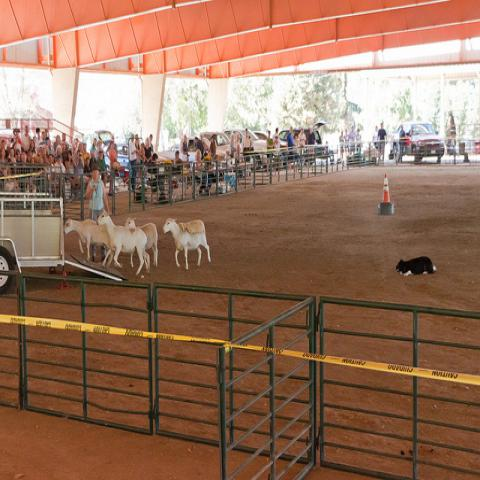car: (389, 119, 445, 164), (94, 130, 128, 176), (278, 120, 328, 146), (224, 128, 267, 152), (252, 130, 269, 140)
truck: (0, 166, 129, 294), (202, 132, 232, 157)
